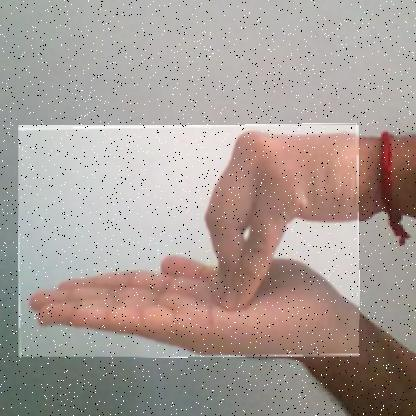Z: (17, 125, 359, 358)
